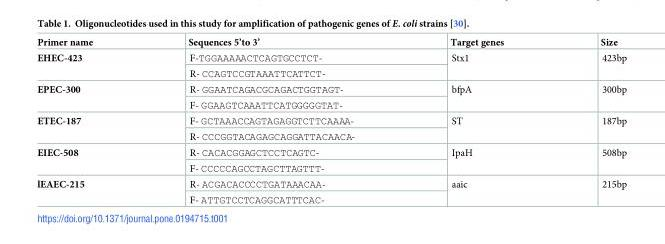table: (36, 36, 626, 205)
table column: (139, 36, 401, 205), (401, 36, 551, 205), (36, 36, 139, 205), (551, 36, 626, 205)
table column header: (36, 36, 626, 49)
table row: (36, 49, 626, 65), (36, 65, 626, 81), (36, 96, 626, 112), (36, 112, 626, 128), (36, 128, 626, 144), (36, 144, 626, 160), (36, 175, 626, 191), (36, 81, 626, 96), (36, 160, 626, 175), (36, 191, 626, 205), (36, 36, 626, 49)
table spanning cell: (401, 49, 551, 81), (401, 112, 551, 144), (401, 81, 551, 112), (401, 144, 551, 175), (401, 175, 551, 205), (36, 49, 139, 81), (36, 112, 139, 144), (36, 81, 139, 112), (36, 144, 139, 175), (36, 175, 139, 205), (551, 49, 626, 81), (551, 112, 626, 144), (551, 81, 626, 112), (551, 144, 626, 175), (551, 175, 626, 205)
